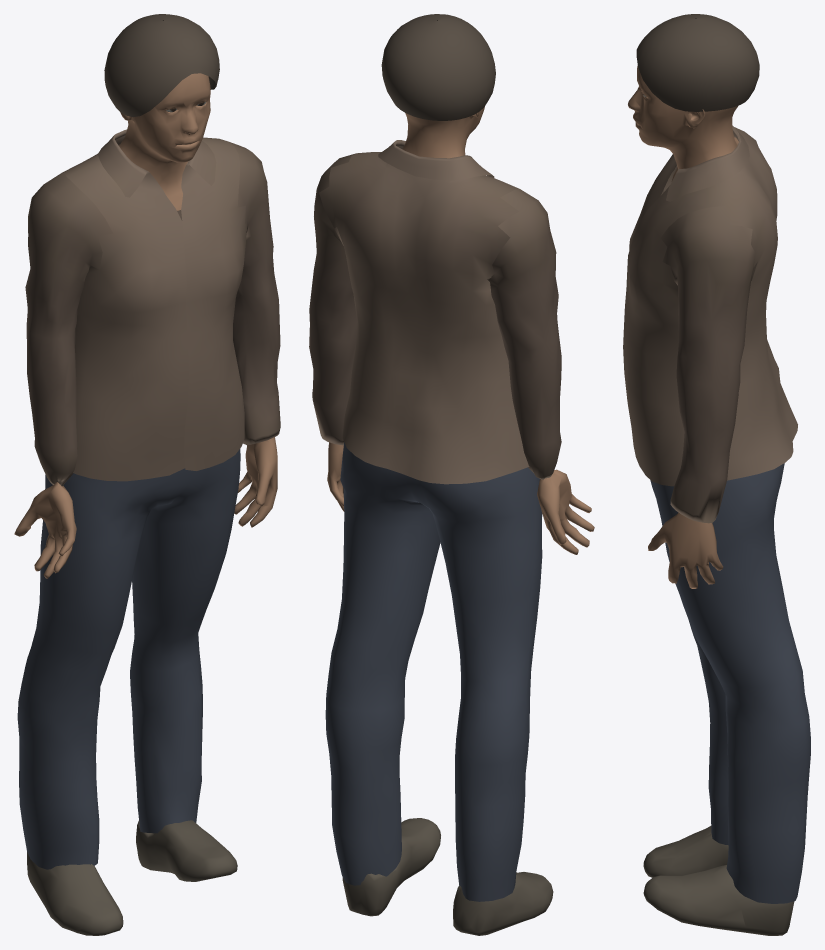
Rendered from participant-04-middle.glb.
3 views of the same model, side by side, from view 1: azimuth 30°, elevation 25°; view 2: azimuth 150°, elevation 25°; view 3: azimuth 270°, elevation 25° (orthographic). The views are drawn at different scales.
Visible parts, largest first — view 1: Participant anatomy and ordinary clothes; view 2: Participant anatomy and ordinary clothes; view 3: Participant anatomy and ordinary clothes.
Boxes of the visible parts, left/top/right/bottom form: Participant anatomy and ordinary clothes: left=14, top=14, right=280, bottom=935; Participant anatomy and ordinary clothes: left=309, top=14, right=594, bottom=935; Participant anatomy and ordinary clothes: left=623, top=14, right=810, bottom=935.
Bounding box in the file's own units: 0.5379 × 1.75 × 0.3319.
